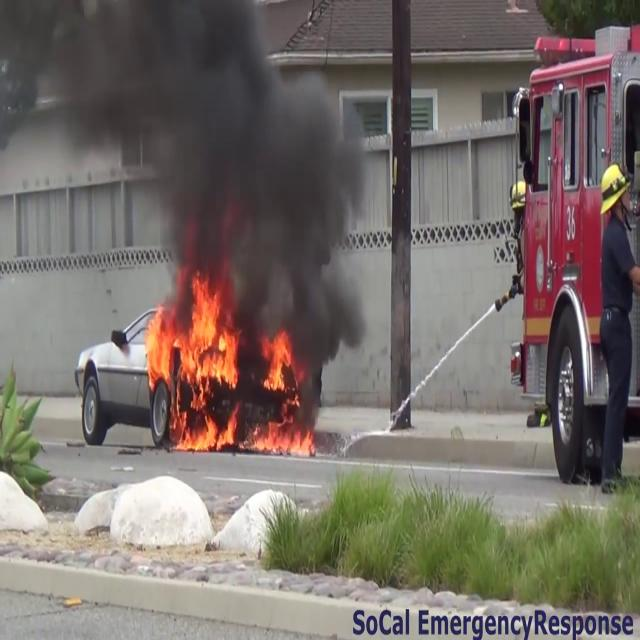Fire: (144, 269, 242, 447), (260, 325, 320, 465)
Smoke: (133, 0, 374, 334)
